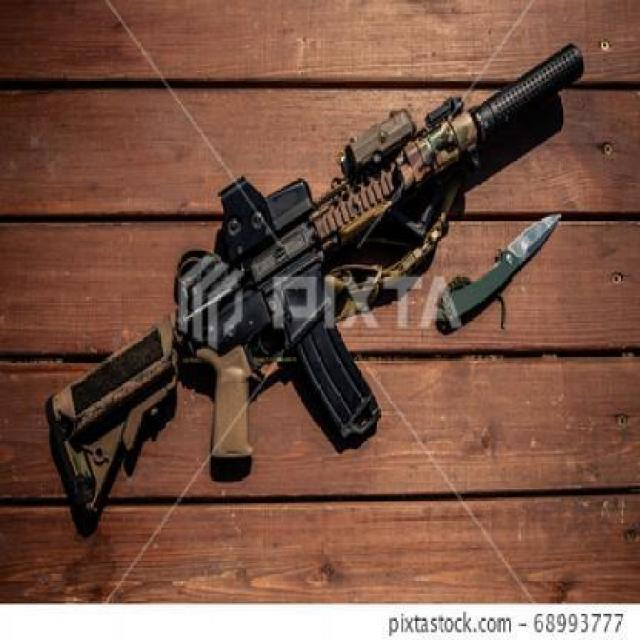Knife: (438, 214, 564, 332)
Rifle: (44, 42, 590, 524)
